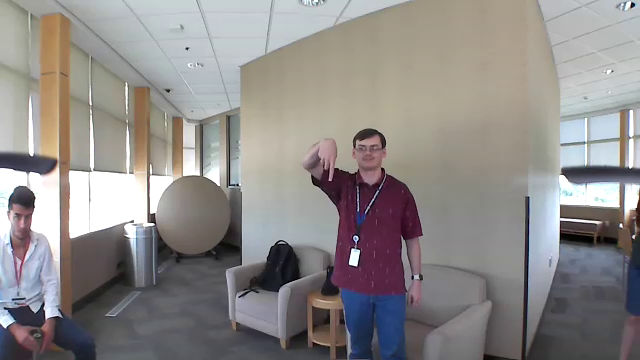down: (311, 132, 346, 185)
